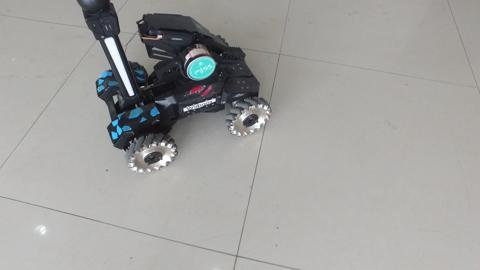chariot: (56, 10, 293, 183)
